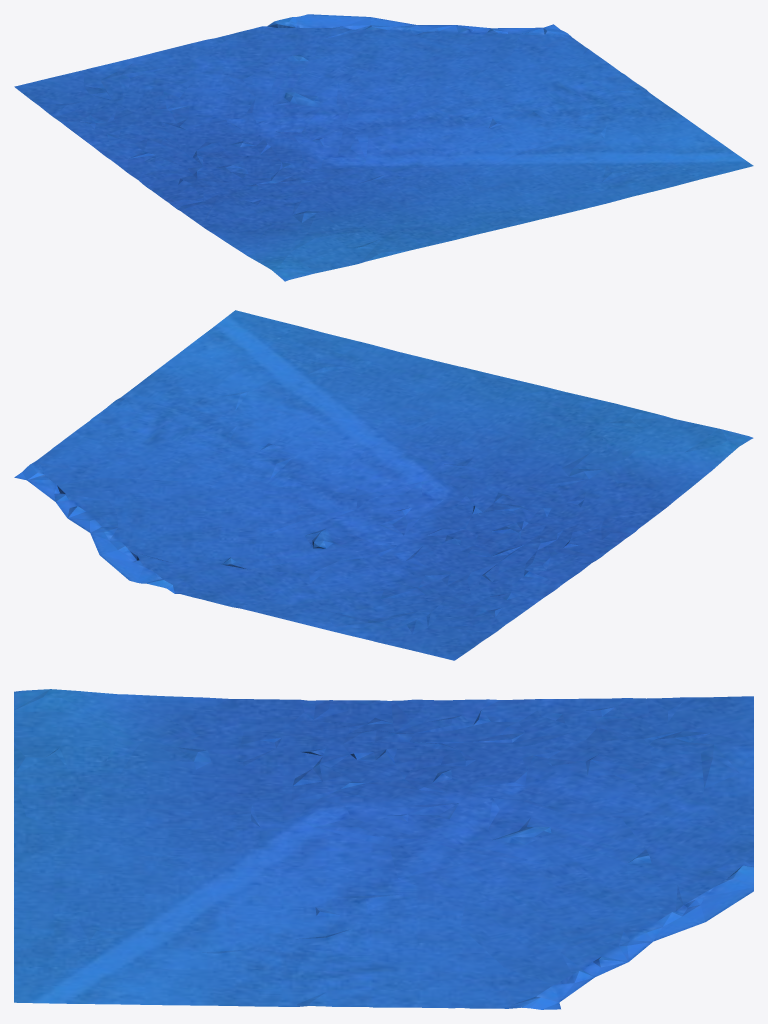
The picture shows the model from 3 angles, top to bottom: view 1: azimuth 30°, elevation 25°; view 2: azimuth 150°, elevation 25°; view 3: azimuth 270°, elevation 25°; orthographic projection. The views are drawn at different scales.
Bounding box in the file's own units: 26.11 × 0.4896 × 26.11.
Materials: 2 (2 with a texture image).
